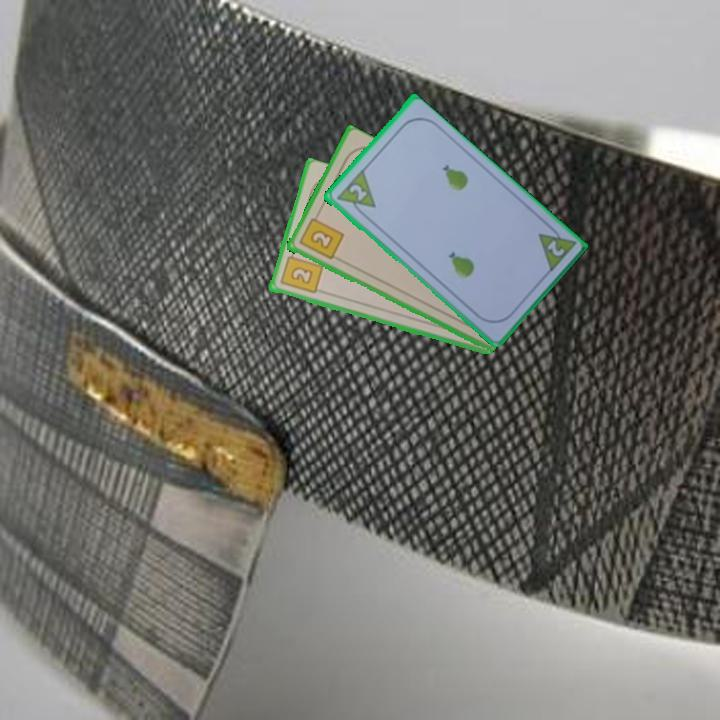2b: (295, 210, 346, 263), (277, 247, 325, 297)
2p: (345, 180, 369, 204), (542, 237, 567, 260)
